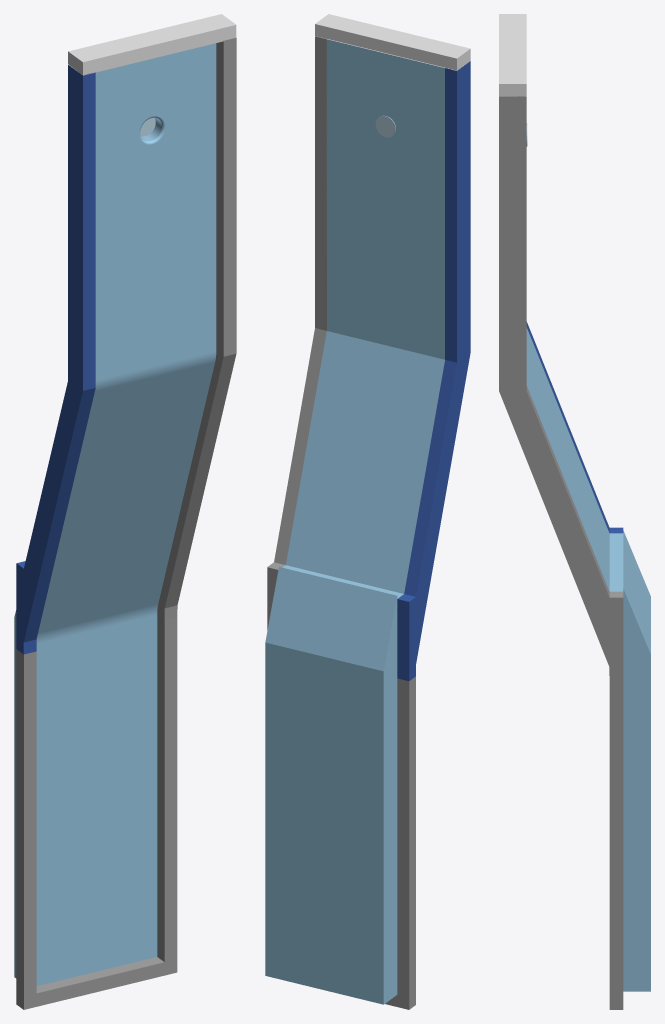
Rendered from Hole 2.obj.
3 renders of one model, left to right at view 1: azimuth 30°, elevation 25°; view 2: azimuth 150°, elevation 25°; view 3: azimuth 270°, elevation 25°, orthographic. The views are drawn at different scales.
Parts seen in each view (by area): view 1: mesh60, mesh54, mesh58, mesh47, mesh16, mesh33, mesh30, mesh9, mesh10, mesh29, mesh42, mesh46 (+6 smaller); view 2: mesh62, mesh56, mesh67, mesh63, mesh16, mesh64, mesh48, mesh18, mesh34, mesh35, mesh17, mesh42 (+4 smaller); view 3: mesh32, mesh65, mesh67, mesh44, mesh7, mesh63, mesh66, mesh35, mesh17.
Part boxes in pixels (x1,y1,x2,y2): mesh60: [36, 615, 157, 985]; mesh54: [95, 43, 216, 380]; mesh58: [38, 362, 214, 632]; mesh47: [24, 617, 177, 1009]; mesh16: [16, 65, 82, 654]; mesh33: [157, 41, 223, 619]; mesh30: [223, 37, 236, 356]; mesh9: [83, 72, 95, 390]; mesh10: [24, 388, 95, 642]; mesh29: [165, 354, 236, 608]; mesh42: [16, 649, 23, 1009]; mesh46: [157, 615, 164, 961]; mesh62: [265, 642, 383, 1004]; mesh56: [326, 39, 444, 359]; mesh67: [286, 331, 444, 593]; mesh63: [265, 567, 397, 671]; mesh16: [409, 61, 470, 680]; mesh64: [383, 597, 397, 1004]; mesh48: [385, 678, 409, 1009]; mesh18: [445, 68, 456, 362]; mesh34: [315, 36, 326, 330]; mesh35: [274, 328, 326, 564]; mesh17: [404, 360, 456, 596]; mesh42: [409, 676, 415, 1009]; mesh32: [499, 96, 623, 677]; mesh65: [623, 589, 650, 991]; mesh67: [526, 327, 609, 591]; mesh44: [609, 678, 623, 1009]; mesh7: [499, 14, 526, 83]; mesh63: [623, 530, 650, 653]; mesh66: [609, 533, 623, 591]; mesh35: [526, 386, 609, 597]; mesh17: [526, 322, 609, 532].
Size of what is drawn, in the model's own units: 6 by 37 by 5.5.
